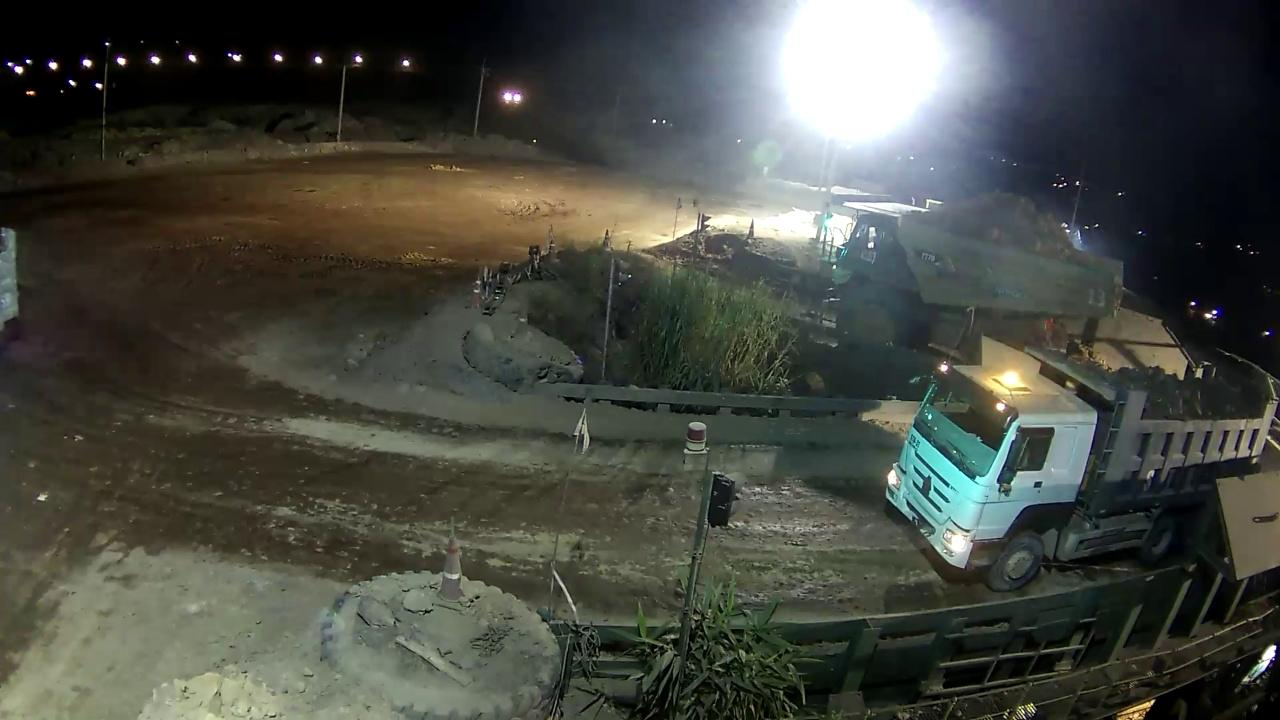full_load: (928, 182, 1097, 247)
mining_truck: (820, 163, 1141, 378)
tail_number: (1080, 278, 1111, 311)
